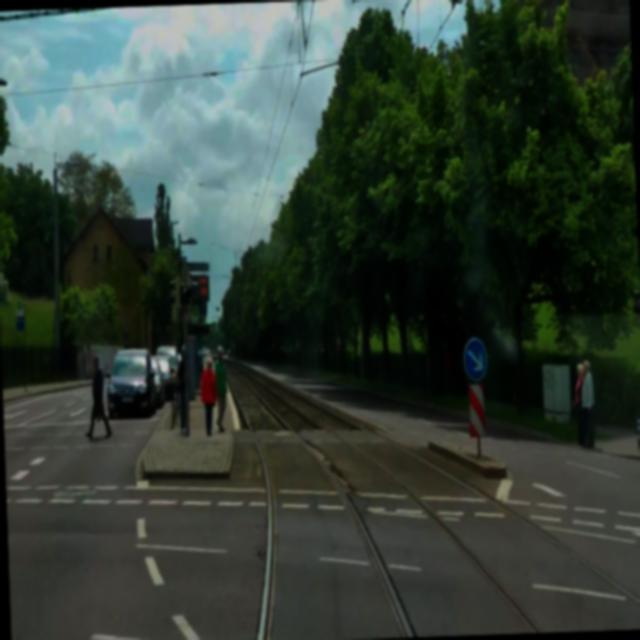rail: (220, 360, 455, 640)
